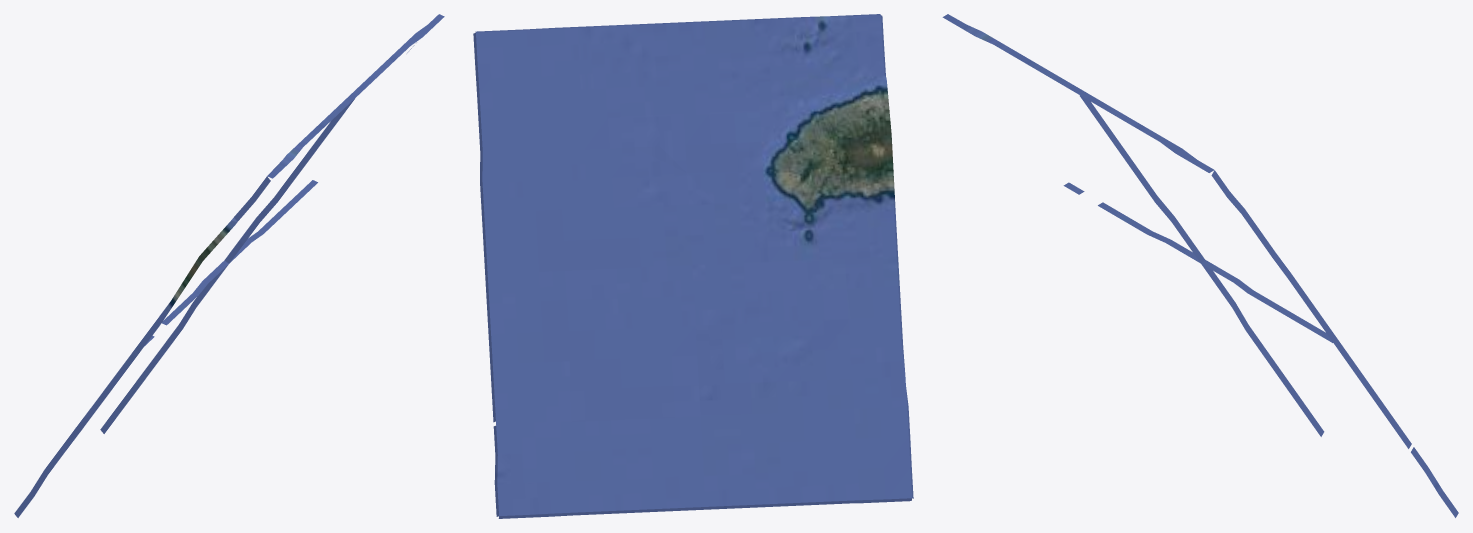
3 renders of one model, left to right at view 1: azimuth 30°, elevation 25°; view 2: azimuth 150°, elevation 25°; view 3: azimuth 270°, elevation 25°, orthographic. The views are drawn at different scales.
Bounding box in the file's own units: 158426 × 133325 × 148213.
Materials: 1 (1 with a texture image).
